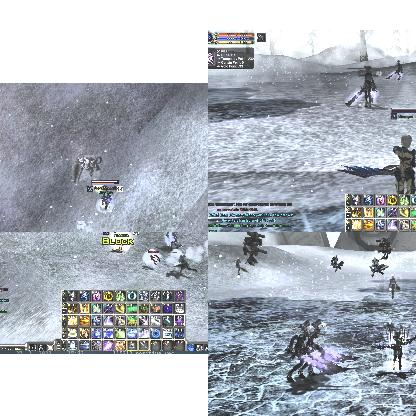caliana: (284, 320, 334, 382), (344, 64, 380, 110), (72, 155, 100, 181), (384, 274, 402, 300), (174, 254, 196, 275), (386, 60, 404, 80), (165, 232, 181, 251), (231, 258, 243, 274)
